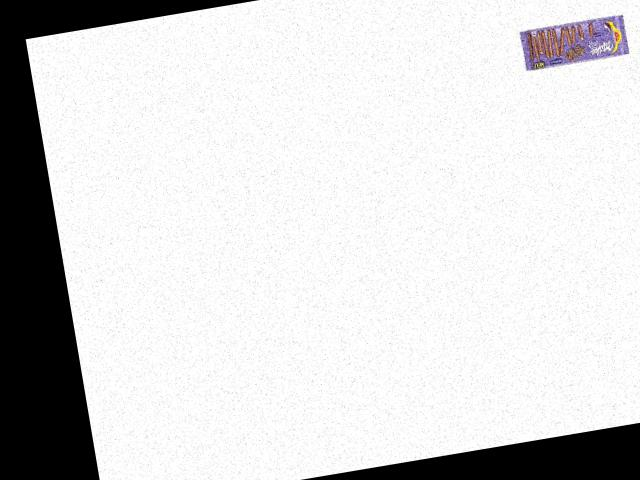chocolate: (516, 8, 630, 72)
